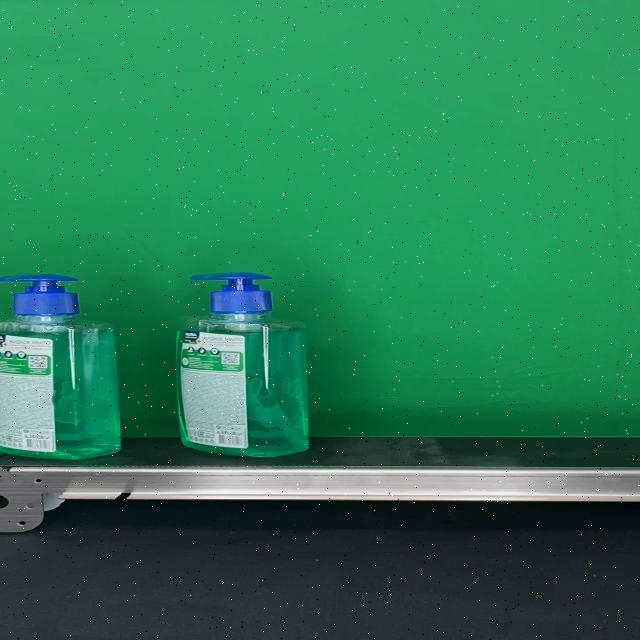Bottle: (173, 272, 309, 458), (0, 273, 122, 459)
Cap: (189, 272, 272, 314), (1, 274, 80, 316)
